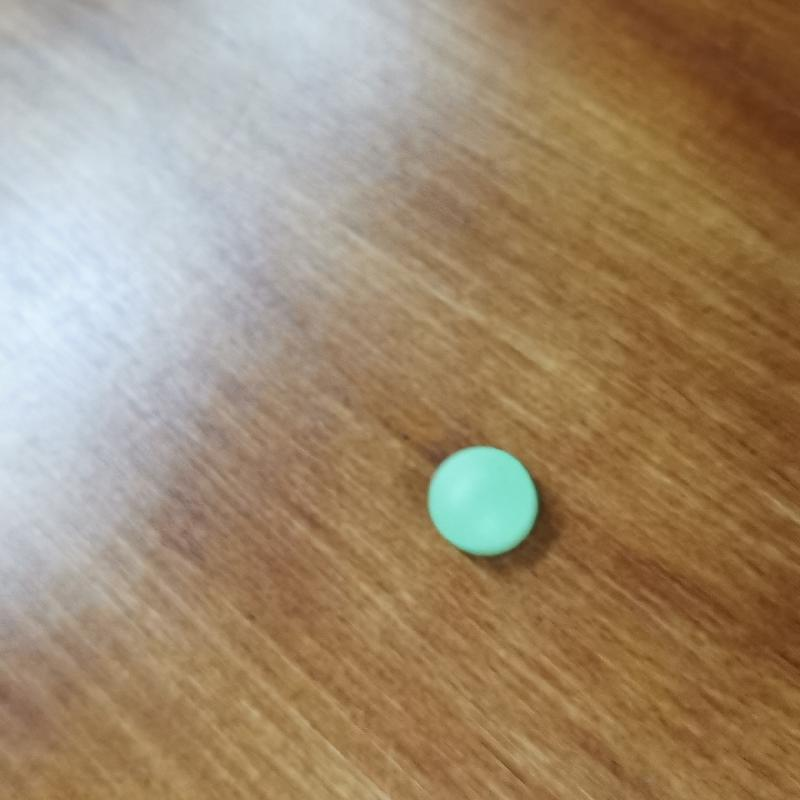pills: (414, 436, 553, 570)
